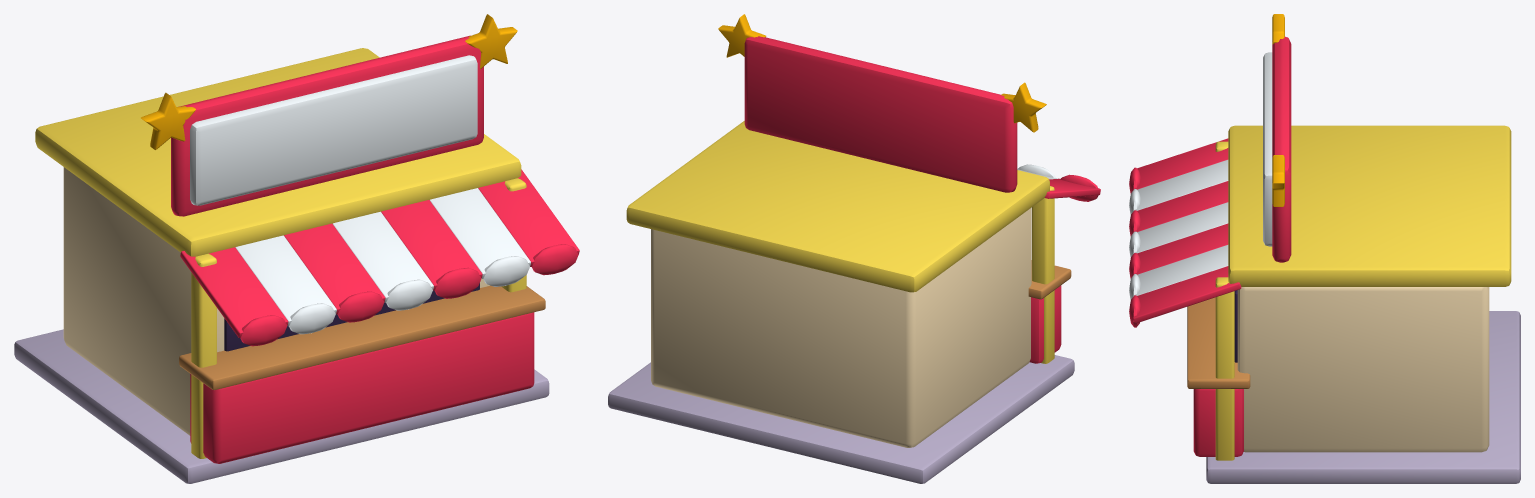
File: lobby_kiosk.obj
The picture shows the model from 3 angles, left to right: view 1: azimuth 30°, elevation 25°; view 2: azimuth 150°, elevation 25°; view 3: azimuth 270°, elevation 25°; orthographic projection. The views are drawn at different scales.
Parts seen in each view (by area): view 1: lobby_kiosk; view 2: lobby_kiosk; view 3: lobby_kiosk.
Boxes of the visible parts, <box> form: lobby_kiosk: <box>14,14,579,483</box>; lobby_kiosk: <box>608,14,1100,483</box>; lobby_kiosk: <box>1129,14,1520,483</box>.
Bounding box in the file's own units: 12.27 × 11.28 × 12.45.
Materials: 1 (1 with a texture image).
